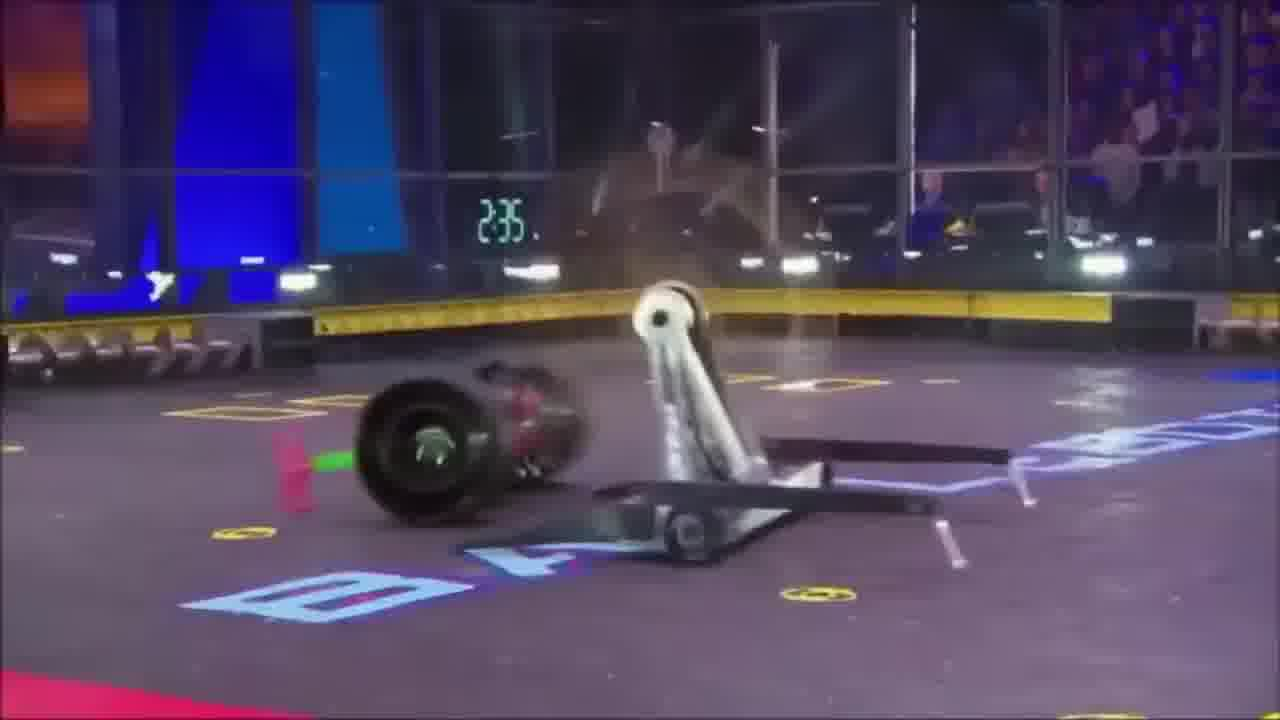combatbot: (447, 278, 1043, 572), (271, 358, 593, 521)
